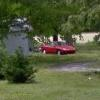Tree: (21, 0, 100, 40)
